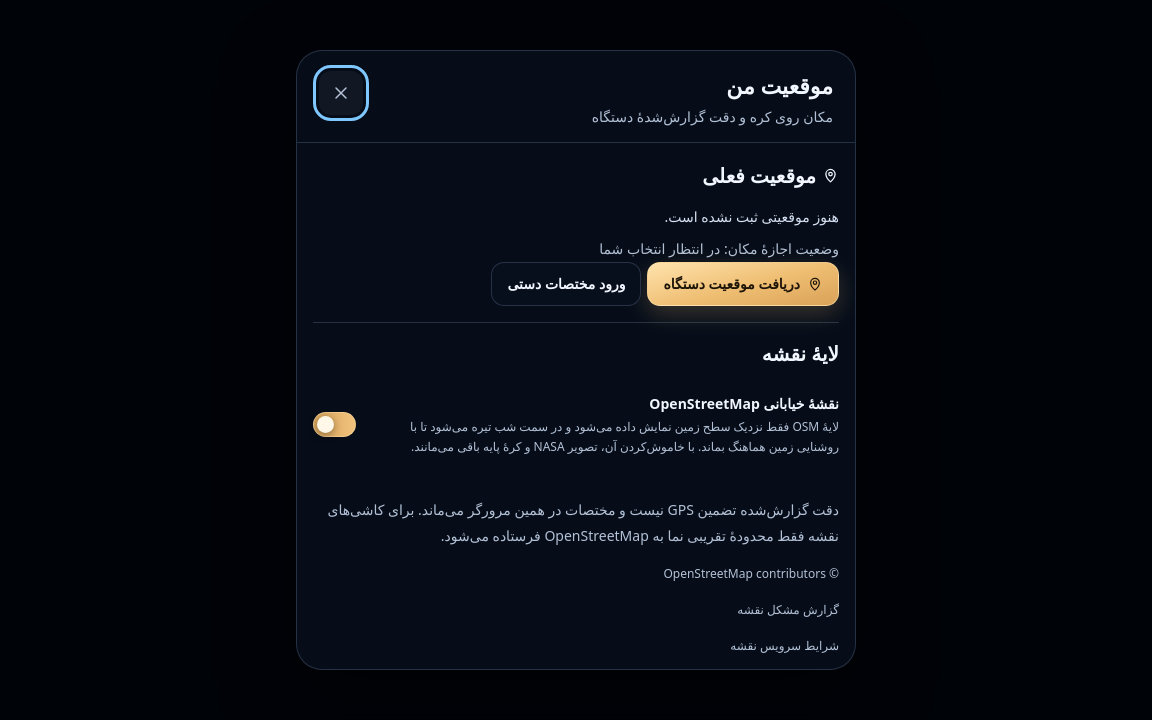
Scenario: EarthLocationSheet › shows a clear error when location permission is denied
The width and height of the screenshot is (1152, 720).
Click the button "دریافت موقعیت دستگاه" at (743, 284), box [647,262,839,306]
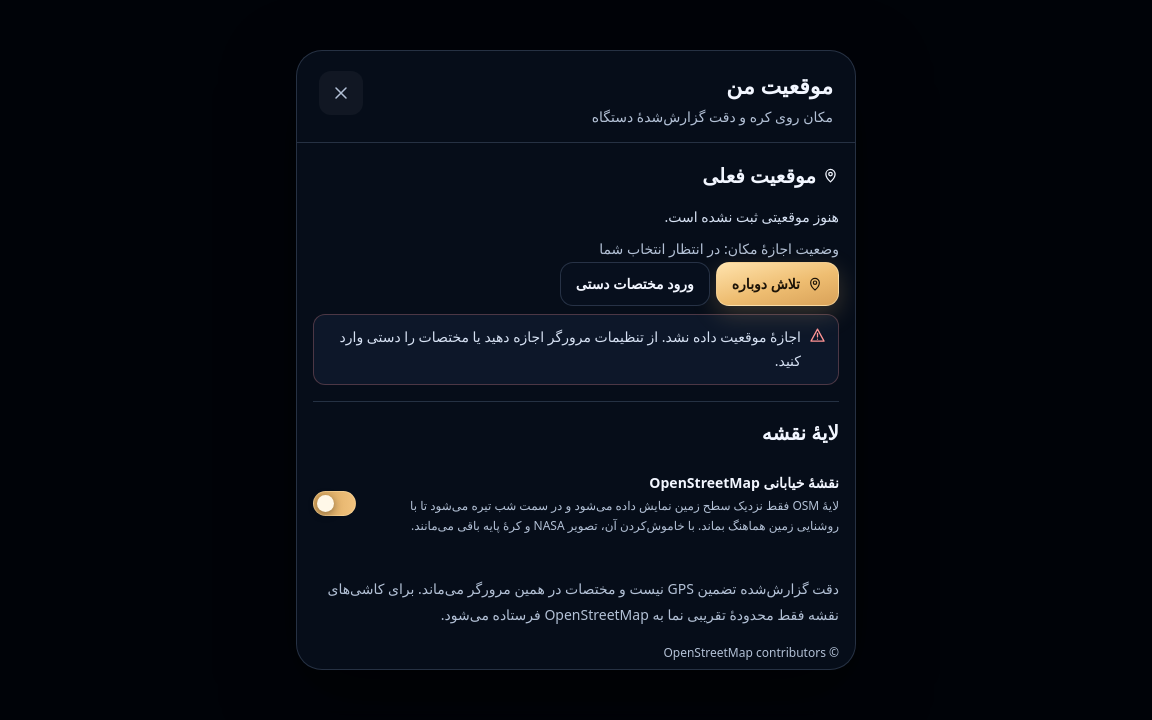
Expected: the button "ورود مختصات دستی" is shown, [560,262,710,306]
Expected: the text "اجازهٔ موقعیت داده نشد" is shown, [340,327,801,370]
Expected: the button "تلاش دوباره" is shown, [716,262,839,306]
